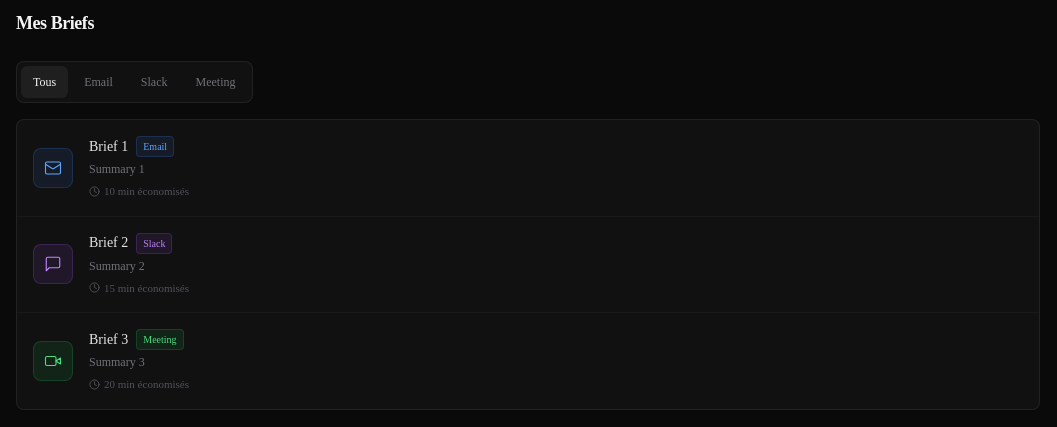
Test case: BriefsPage › should show empty state when no briefs match filter
Note: click a filter that returns empty
Click the button "Meeting": (216, 82) [184, 66, 248, 98]
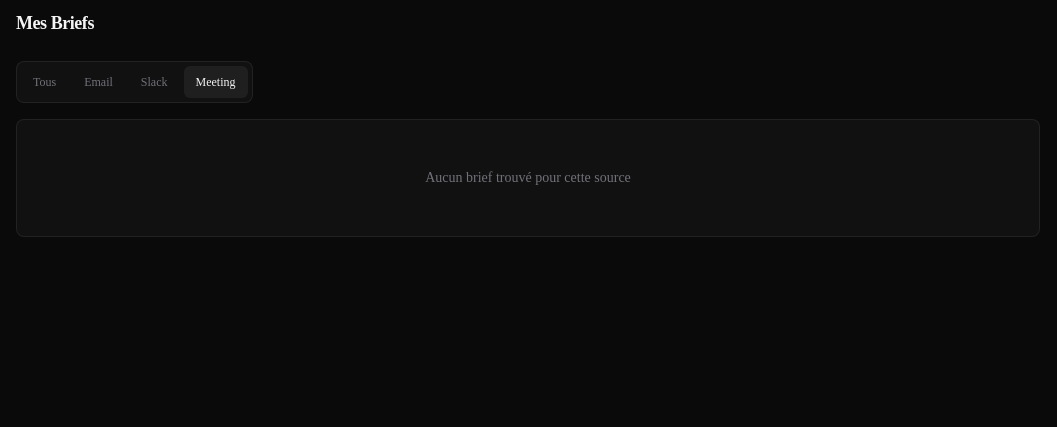
expect the text "Aucun brief trouvé pour cette source" is shown: met, box [425, 170, 631, 185]
